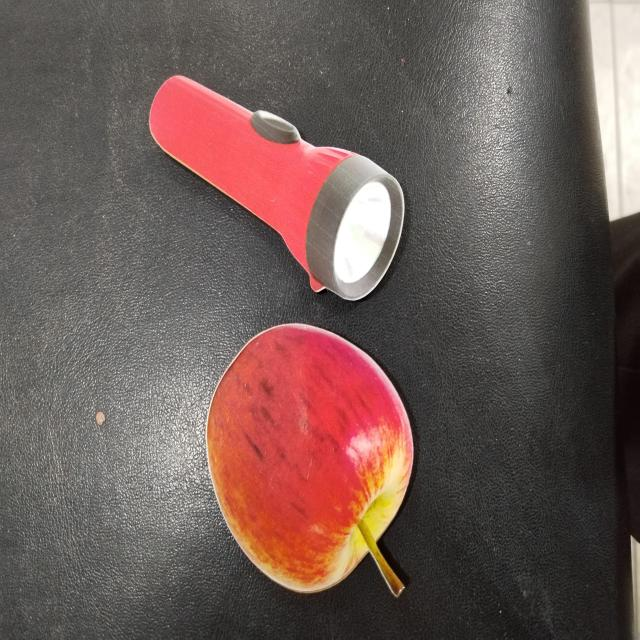Other Objects: (148, 74, 406, 303), (206, 322, 415, 599)
